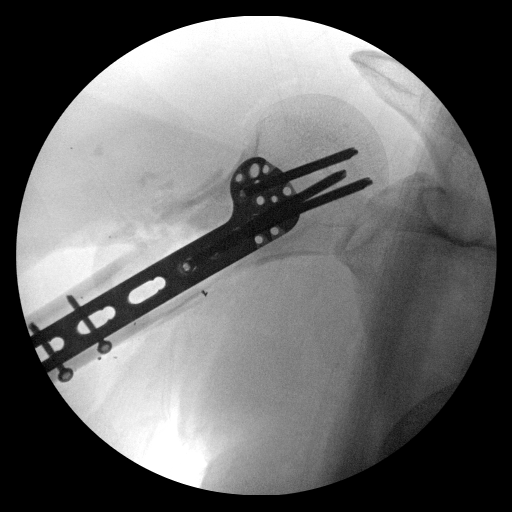implant: (222, 135, 374, 239), (26, 291, 118, 378)
